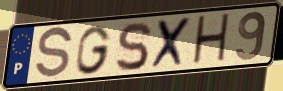9: (234, 10, 267, 63)
G: (75, 24, 113, 77)
H: (189, 11, 232, 69)
S: (33, 25, 75, 82), (114, 20, 152, 74)
X: (149, 15, 195, 72)
